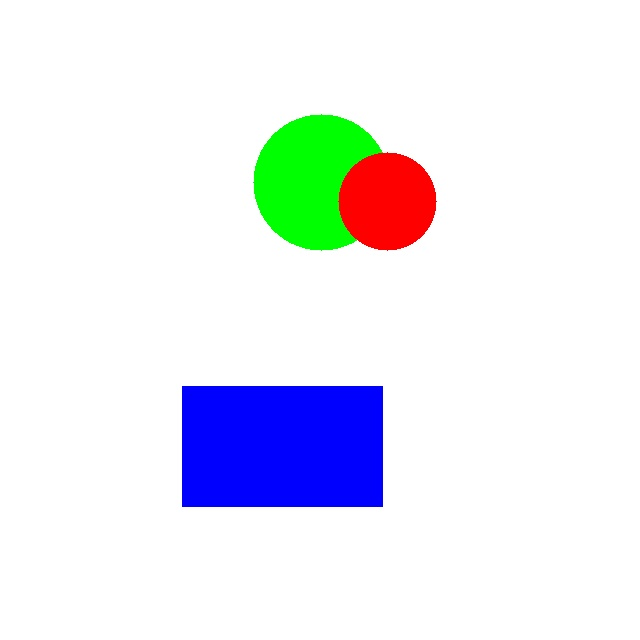cartao: (182, 386, 382, 506)
rosca_externa: (253, 114, 389, 250)
rosca_interna: (338, 152, 436, 250)
